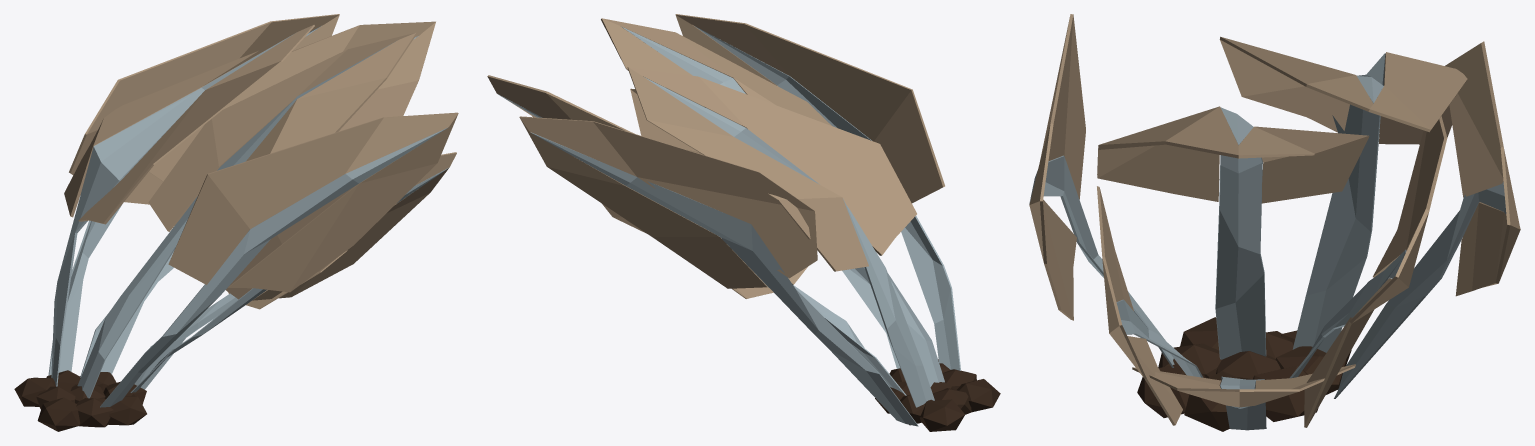
Rendered from Chard_Dry_2.fbx.
The picture shows the model from 3 angles, left to right: view 1: azimuth 30°, elevation 25°; view 2: azimuth 150°, elevation 25°; view 3: azimuth 270°, elevation 25°; orthographic projection. The views are drawn at different scales.
Parts seen in each view (by area): view 1: 2_Dry_Chard; view 2: 2_Dry_Chard; view 3: 2_Dry_Chard.
Boxes of the visible parts, bbox=[...] form: 2_Dry_Chard: bbox=[14, 14, 458, 431]; 2_Dry_Chard: bbox=[487, 14, 1000, 431]; 2_Dry_Chard: bbox=[1029, 14, 1520, 431].
Size of the model in its own units: 20.3 by 13.11 by 11.24.
